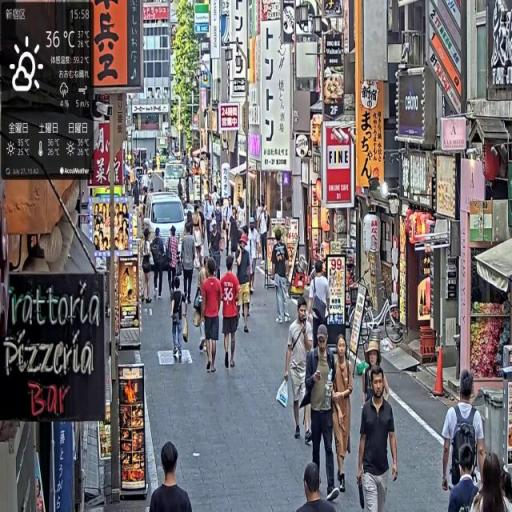person: (305, 326, 341, 502), (357, 365, 399, 512), (442, 371, 487, 499), (284, 298, 314, 443), (330, 334, 355, 495), (149, 442, 194, 512), (304, 256, 331, 356), (220, 255, 243, 372), (448, 443, 485, 512), (201, 260, 223, 376), (235, 234, 254, 337), (300, 463, 339, 512), (171, 273, 189, 365), (181, 224, 198, 304), (152, 227, 169, 300), (167, 225, 181, 295)
